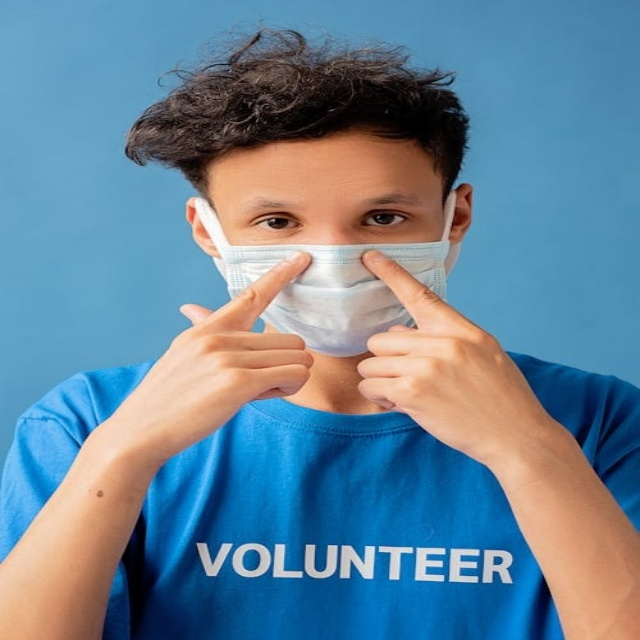Mascara: (195, 192, 458, 356)
Sin_gafas: (225, 197, 430, 240)
Sin_guantes: (344, 251, 539, 454), (115, 252, 323, 441)
